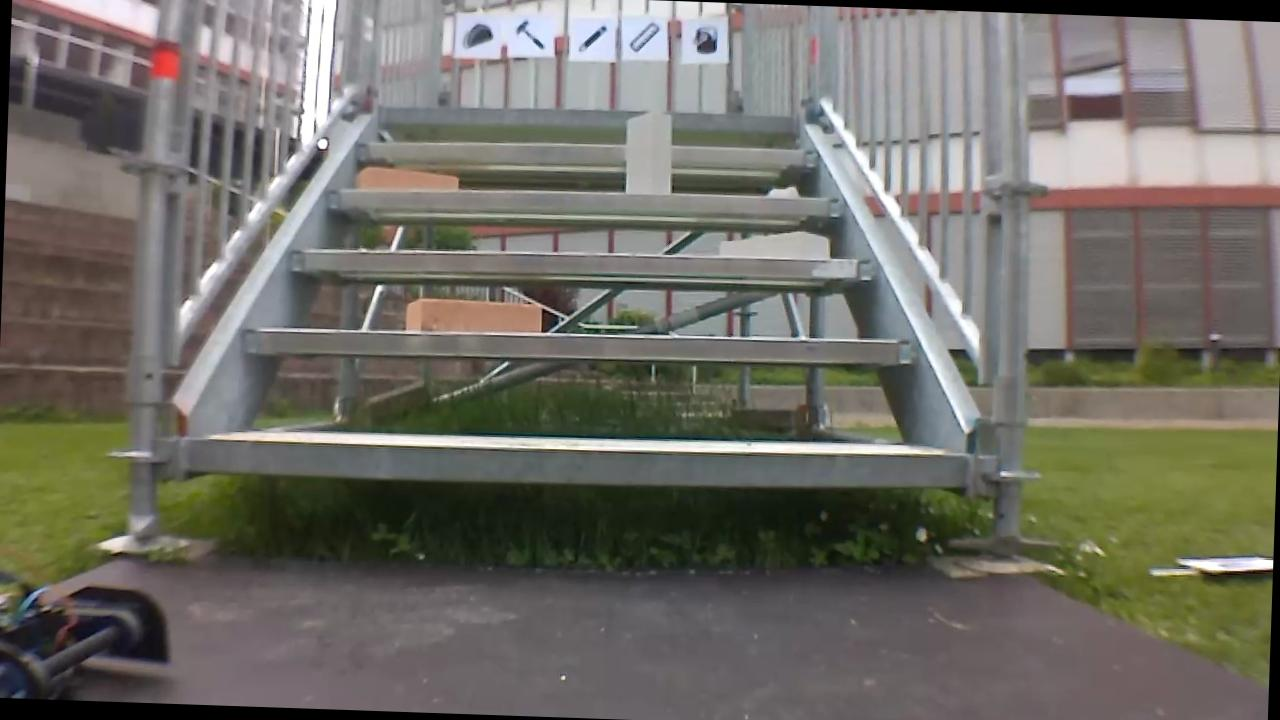brick: (405, 295, 541, 334), (623, 110, 672, 192), (719, 230, 829, 260), (354, 165, 458, 191)
bucket: (686, 21, 721, 56)
edge: (187, 427, 967, 498), (244, 316, 913, 372), (288, 238, 876, 284), (326, 179, 848, 219), (355, 133, 815, 170), (379, 101, 800, 134)
hammer: (509, 14, 549, 54)
pencil: (572, 19, 613, 55)
ruler: (627, 18, 662, 53)
steps: (178, 91, 986, 508)
taco: (460, 18, 495, 50)
